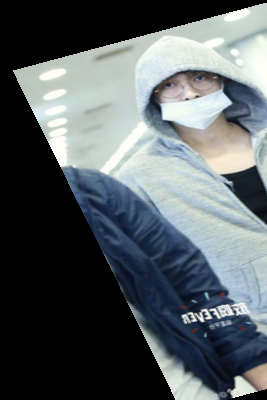mask_weared_incorrect: (124, 41, 251, 137)
